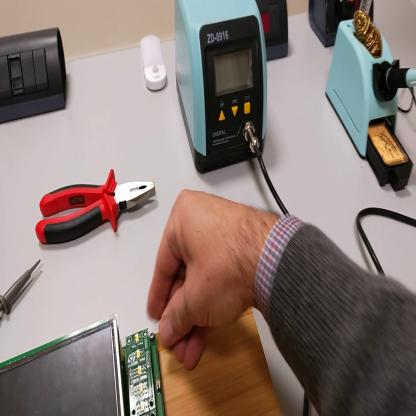hand: (149, 188, 258, 367)
low voltage board: (1, 314, 167, 416)
oscilloscope probe tip: (2, 260, 42, 319)
pliers: (37, 167, 157, 246)
socket: (309, 1, 375, 52), (258, 2, 290, 61)
welder base: (328, 1, 416, 195)
welder probe tip: (384, 62, 416, 96)
welder station: (175, 2, 269, 175)
working area: (157, 306, 283, 416)
